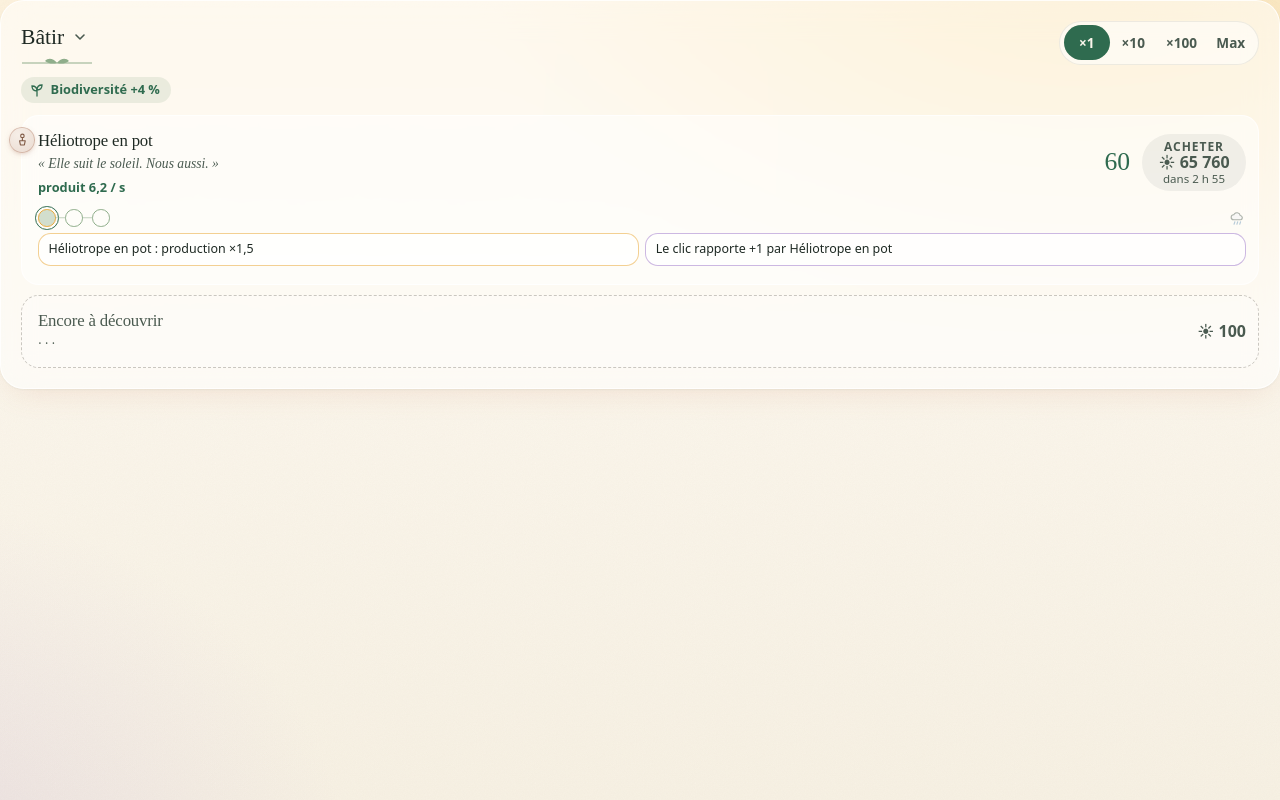
it: the weather mark on a building › writes out what the weather does when tapped, since a phone shows no tooltip
What coordinates should you click on to do the following:
click the button named "ce bâtiment produit"
I would click on:
 (1238, 218)
Its box is [1229, 210, 1246, 226].
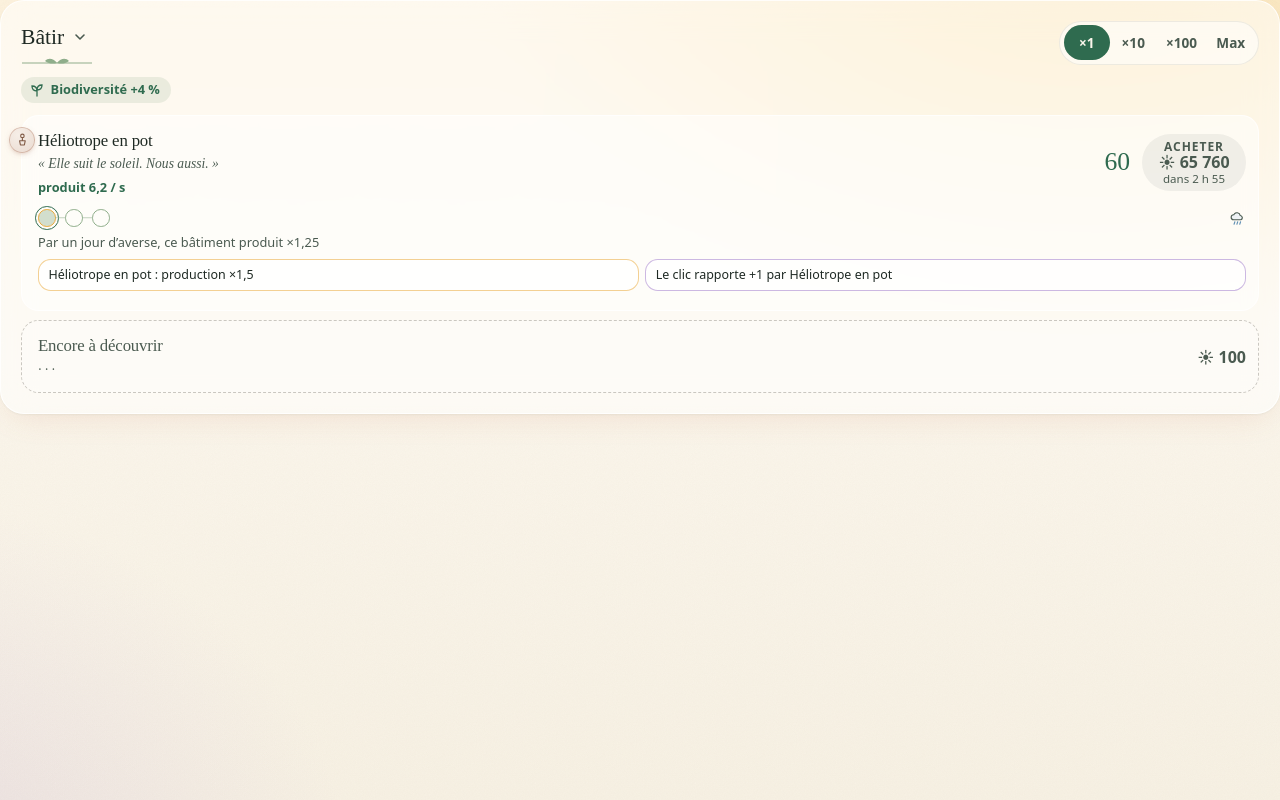
Expected: the button named "ce bâtiment produit" is expanded
What coordinates should you click on to do the following:
click the button named "ce bâtiment produit"
I would click on:
 (1238, 218)
Its box is [1229, 210, 1246, 226].
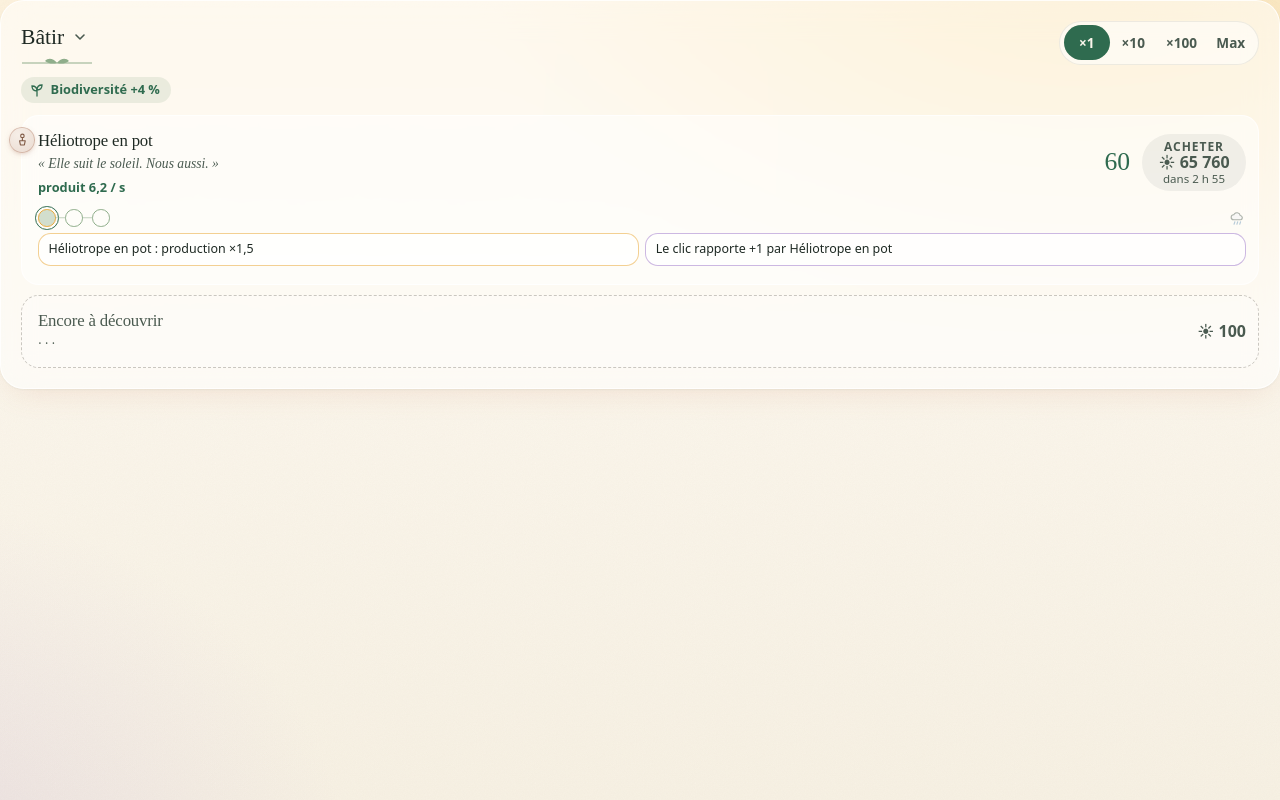
Expected: the text with class "growth-sky-note" is gone
